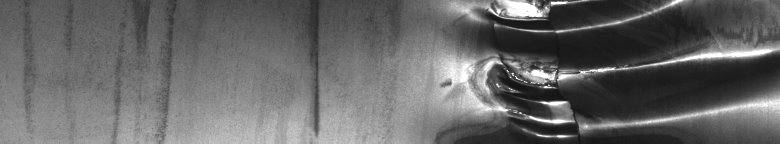ke: (441, 4, 776, 136)
